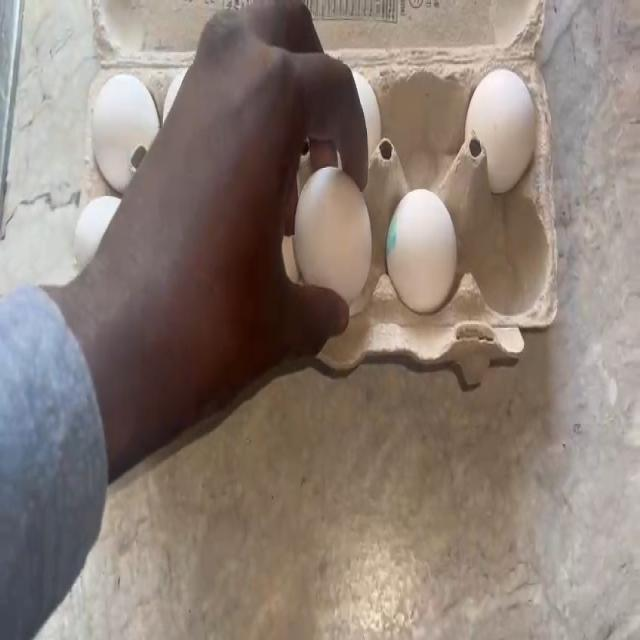Egg: (304, 160, 368, 292), (463, 60, 527, 168), (392, 188, 456, 292), (90, 73, 142, 161), (72, 199, 112, 243)
